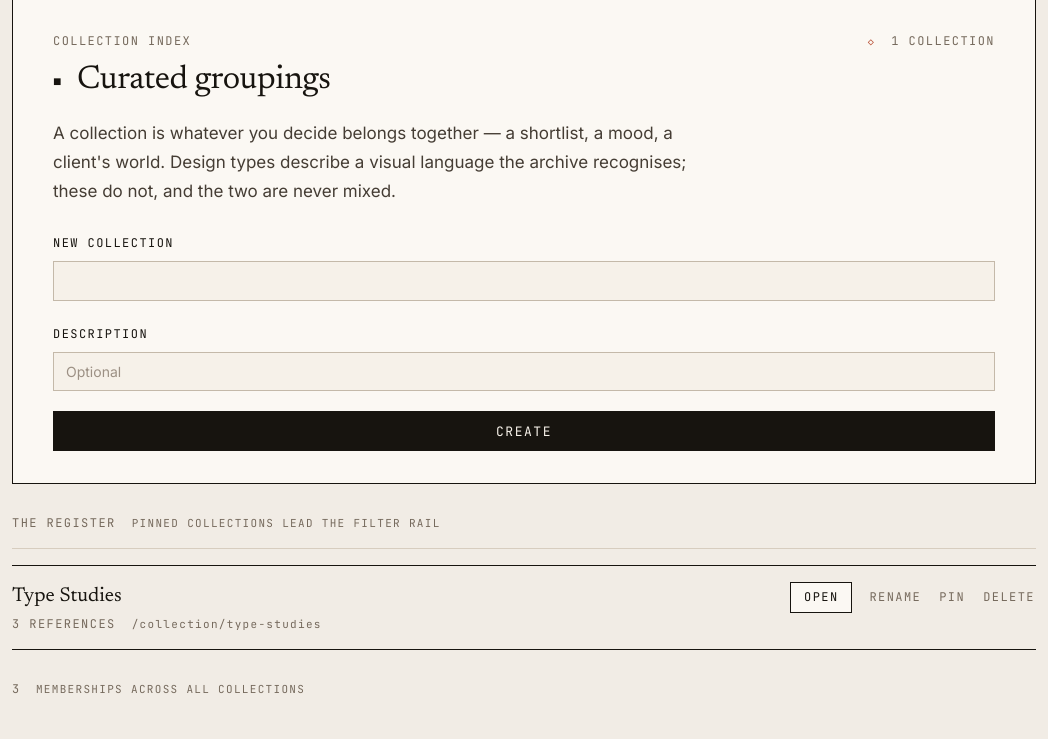
Test: renaming a collection › sends the new name and shows it once the register is re-read
Expected: the link "Type Studies" is shown, [12,586,122,606]
Click the button "Rename" at (895, 597), box [868,582,922,613]
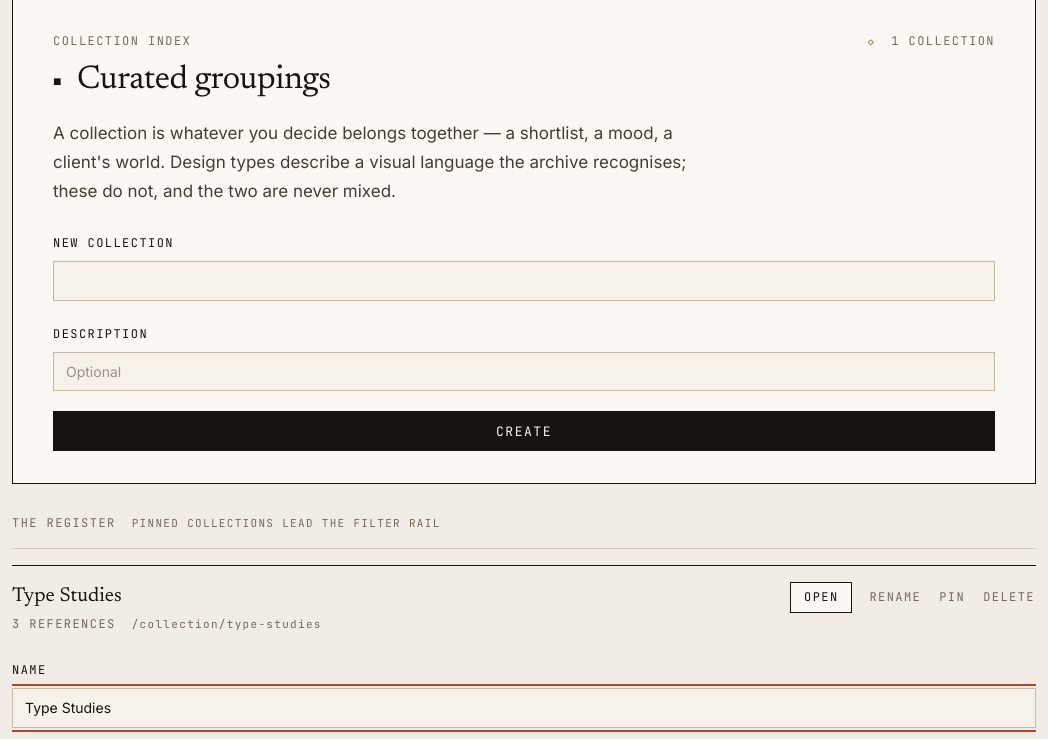
Replace the text in the field labelled "Name" with "Typography Studies" at (524, 708), box [12,688,1036,728]
(page scrolled)
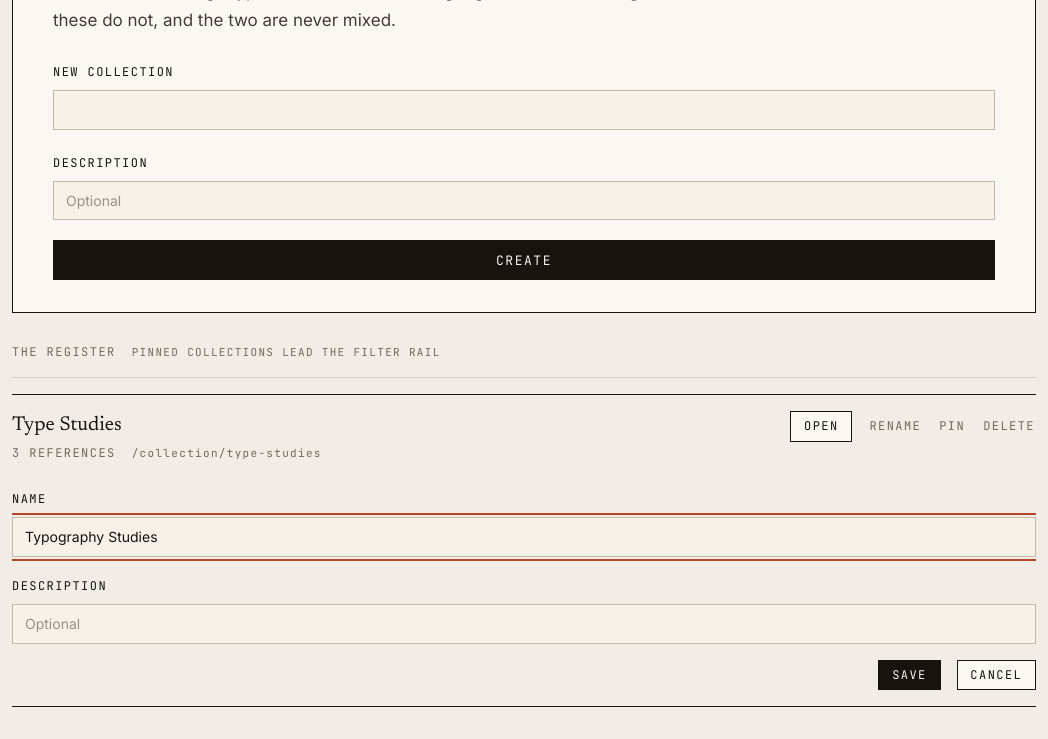
Click the button "Save" at (910, 675), box [878,660,941,690]
(page scrolled)
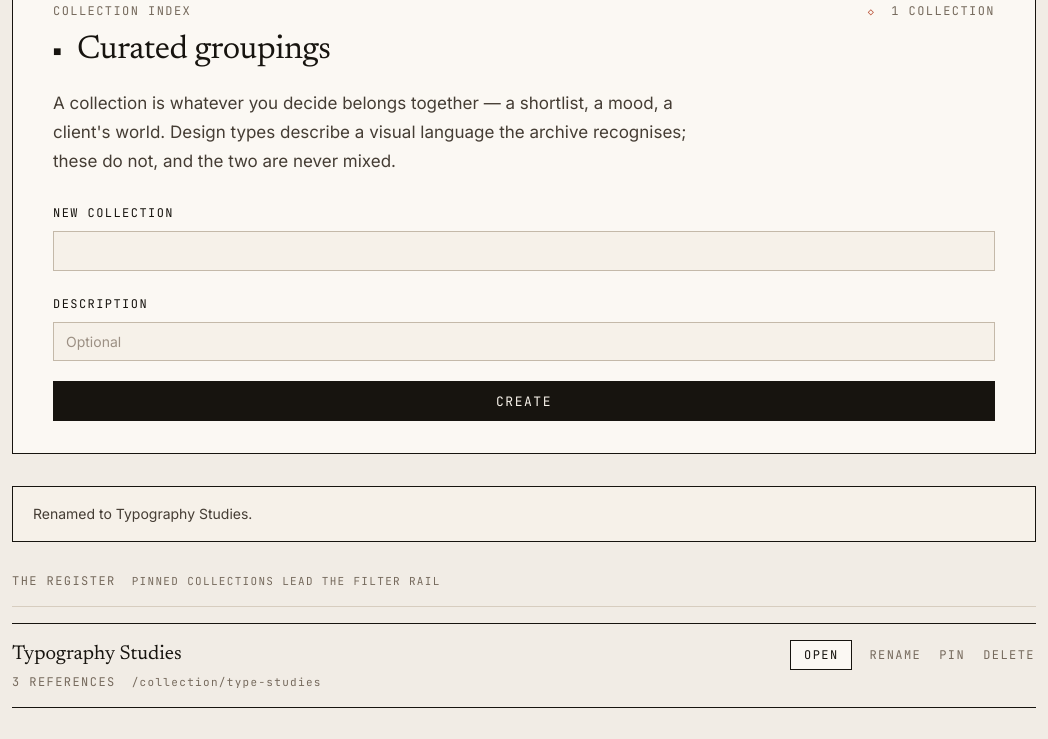
Result: the link "Typography Studies" is shown at [12,644,182,664]
